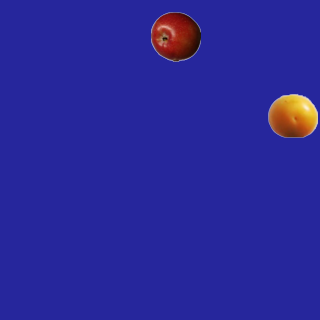Apple Braeburn: (150, 11, 200, 61)
Cherry Wax Yellow: (267, 90, 317, 140)
